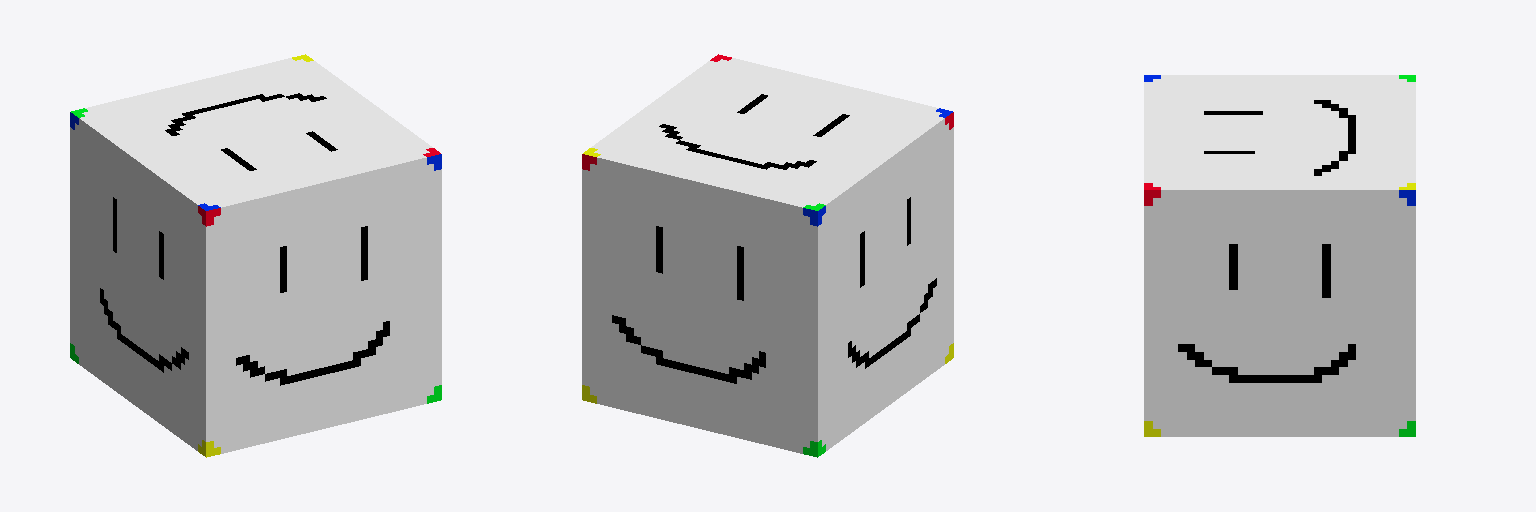
The picture shows the model from 3 angles: view 1: azimuth 30°, elevation 25°; view 2: azimuth 150°, elevation 25°; view 3: azimuth 270°, elevation 25°; orthographic projection.
Parts seen in each view (by area): view 1: Cube; view 2: Cube; view 3: Cube.
Part boxes in pixels (bbox=[...]): Cube: bbox=[70, 54, 441, 457]; Cube: bbox=[582, 54, 953, 457]; Cube: bbox=[1144, 75, 1415, 436].
Bounding box in the file's own units: 2 × 2 × 2.
Materials: 1 (1 with a texture image).